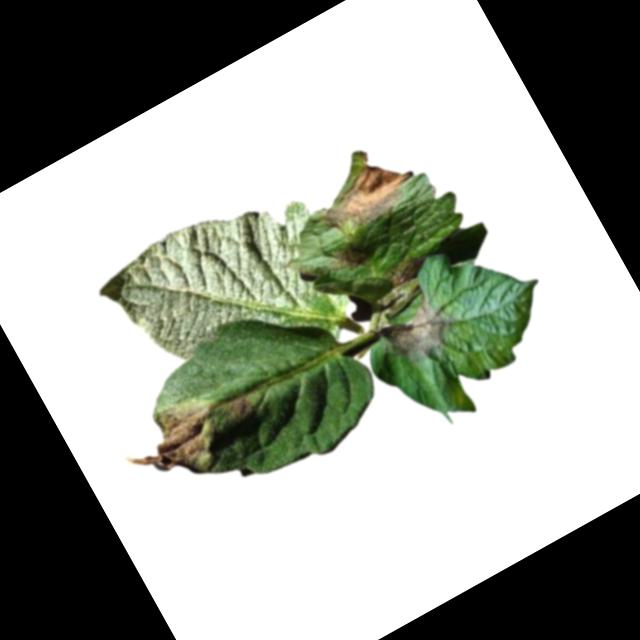Late_blight: (110, 381, 242, 504), (306, 145, 424, 244), (373, 292, 459, 377), (379, 248, 431, 290), (327, 238, 371, 278), (223, 392, 256, 424)
healthy: (92, 169, 370, 430)
